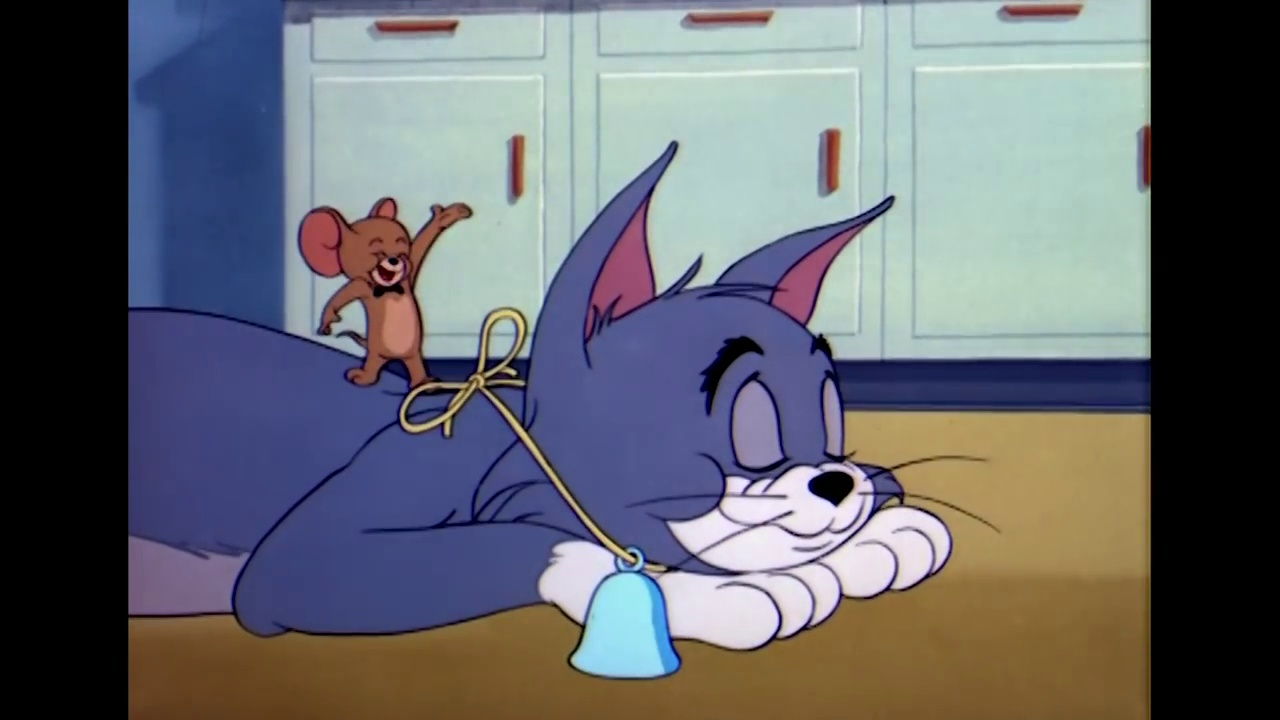tom: (523, 132, 904, 586)
